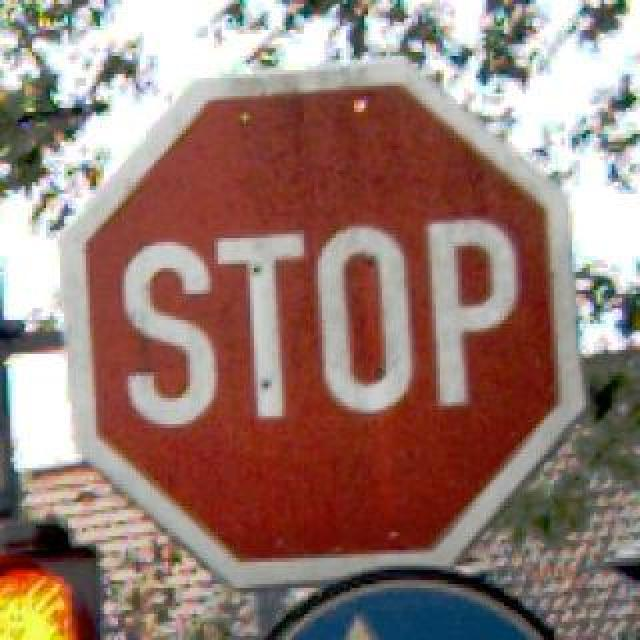stop: (62, 56, 584, 592)
